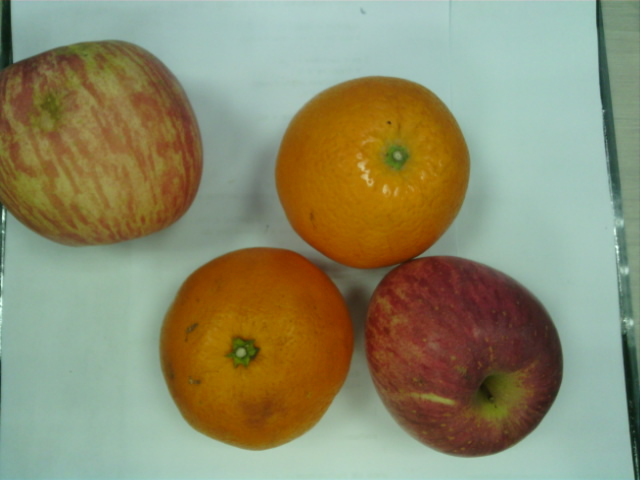normal_apple: (1, 41, 203, 248), (365, 258, 563, 458)
normal_orange: (160, 247, 354, 449), (276, 76, 472, 269)
